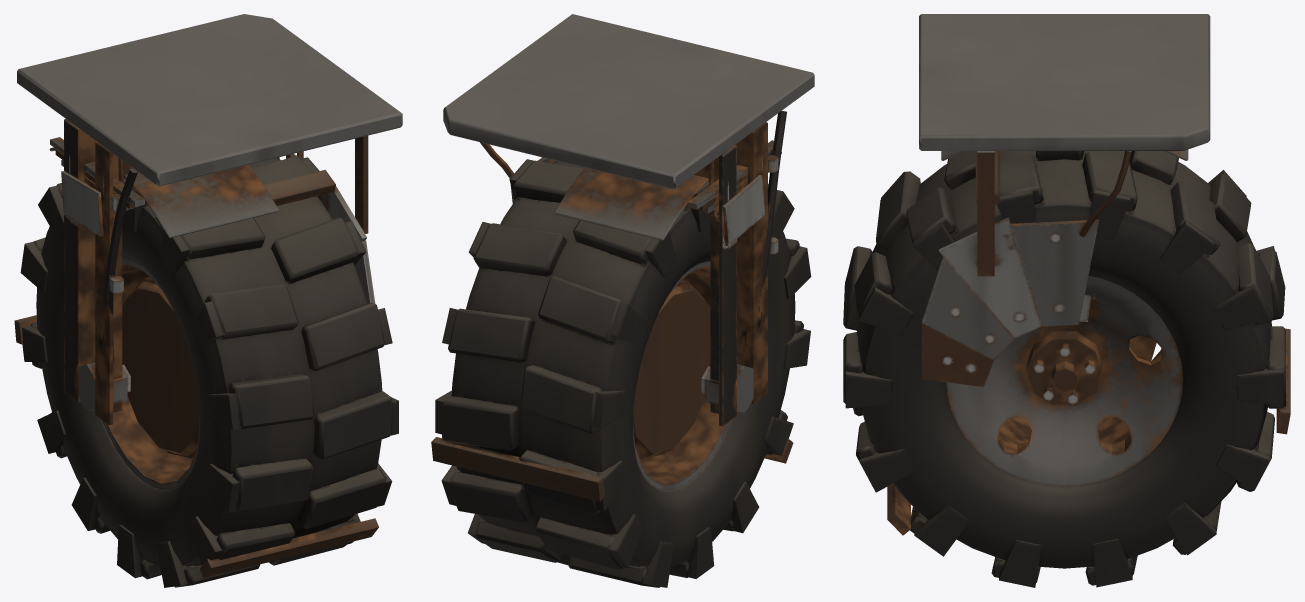
File: R4M_Wheel.glb
3 renders of one model, left to right at view 1: azimuth 30°, elevation 25°; view 2: azimuth 150°, elevation 25°; view 3: azimuth 270°, elevation 25°, orthographic. The views are drawn at different scales.
Parts seen in each view (by area): view 1: R4M_Wheel_Rotor, R4M_Wheel_Mount; view 2: R4M_Wheel_Rotor, R4M_Wheel_Mount; view 3: R4M_Wheel_Rotor, R4M_Wheel_Mount.
Part boxes in pixels (x1,y1,x2,y2): R4M_Wheel_Rotor: [14, 155, 398, 587]; R4M_Wheel_Mount: [17, 14, 402, 425]; R4M_Wheel_Rotor: [431, 159, 811, 587]; R4M_Wheel_Mount: [443, 14, 814, 426]; R4M_Wheel_Rotor: [843, 151, 1290, 587]; R4M_Wheel_Mount: [919, 14, 1210, 386].
Bounding box in the file's own units: 0.5064 × 0.9001 × 0.7682.
1 material, 1 textured.
